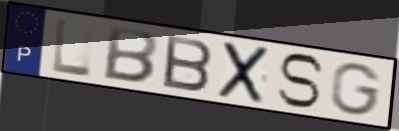B: (100, 25, 161, 86), (161, 33, 215, 94)
G: (330, 61, 385, 118)
L: (51, 16, 94, 79)
S: (274, 52, 327, 110)
X: (215, 40, 273, 106)
